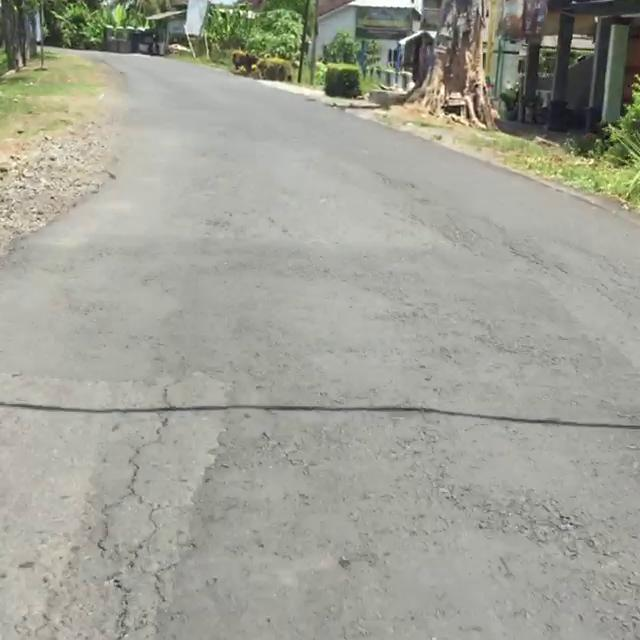retak_memanjang: (74, 385, 192, 640)
